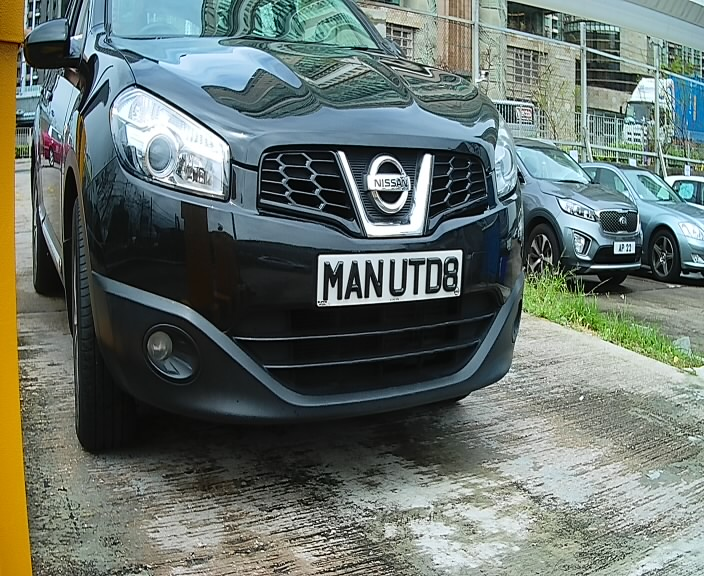Car: (31, 2, 531, 453)
License Plate: (307, 241, 476, 321)
